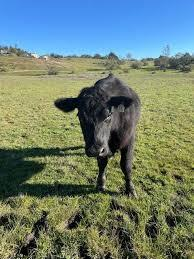cow: (54, 74, 141, 196)
